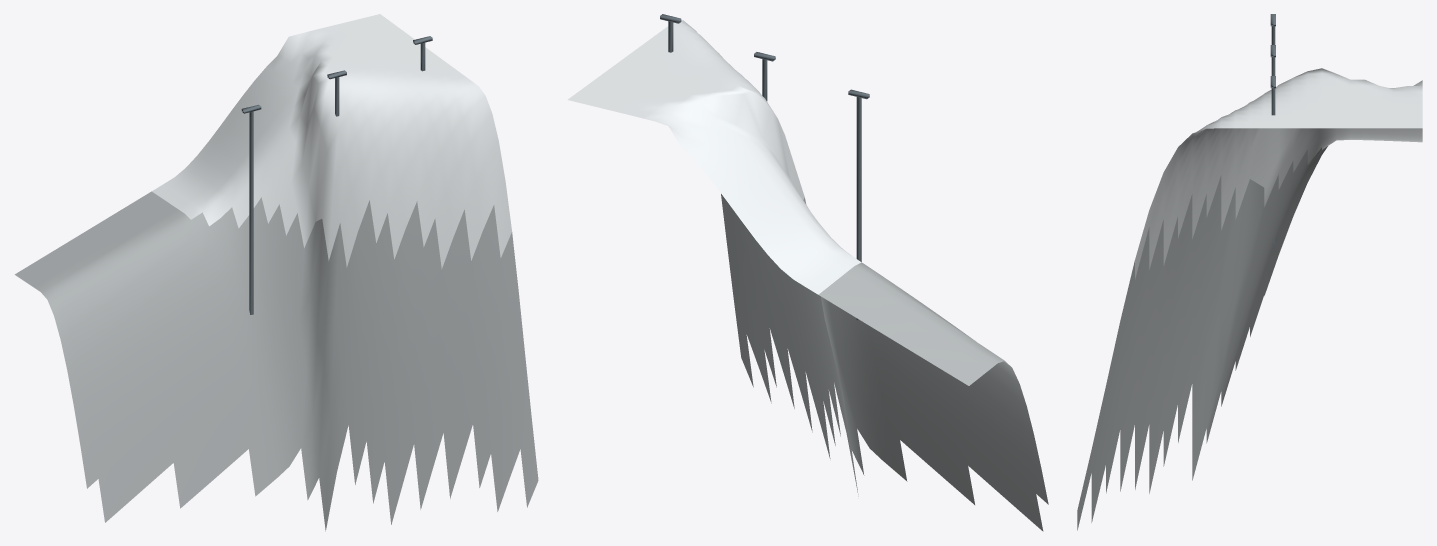
The model's file is alpine-12-12.glb.
The picture shows the model from 3 angles, left to right: view 1: azimuth 30°, elevation 25°; view 2: azimuth 150°, elevation 25°; view 3: azimuth 270°, elevation 25°; orthographic projection. The views are drawn at different scales.
Visible parts, largest first — view 1: alpine-12-12; view 2: alpine-12-12; view 3: alpine-12-12.
Part boxes in pixels (x1,y1,x2,y2): alpine-12-12: (14, 14, 538, 531); alpine-12-12: (567, 14, 1048, 531); alpine-12-12: (1077, 14, 1422, 530).
Size of the model in its own units: 256 by 290 by 192.
3 materials, 3 textured.
